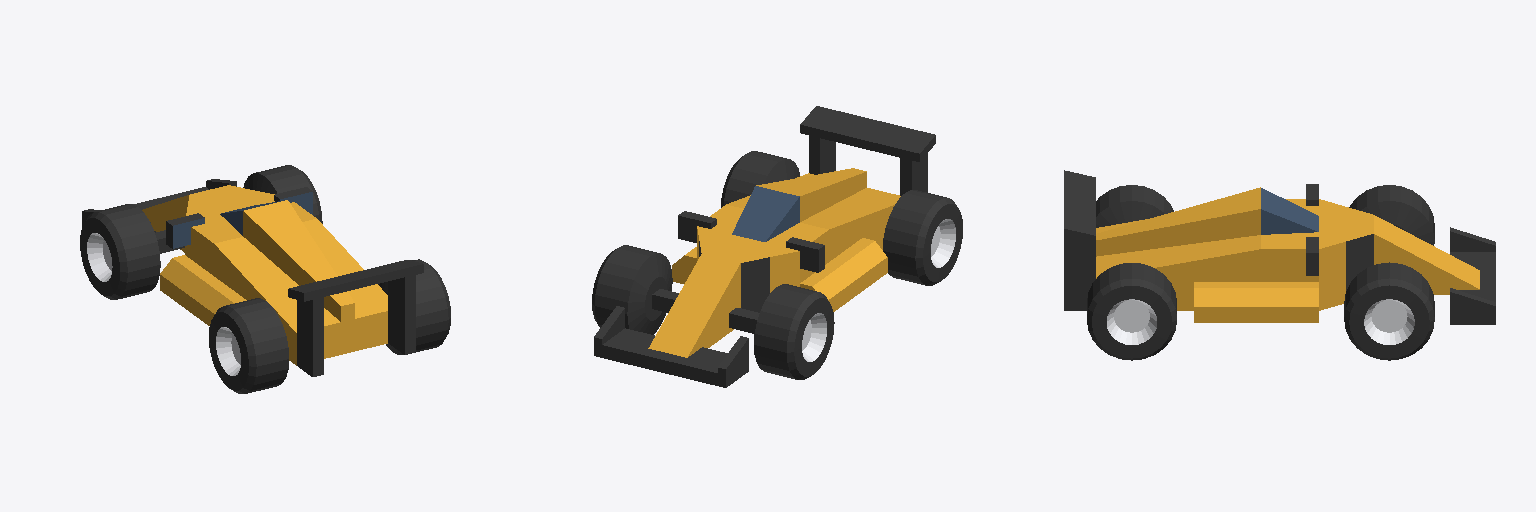
The model's file is raceCarOrange.obj.
3 views of the same model, side by side, from view 1: azimuth 30°, elevation 25°; view 2: azimuth 150°, elevation 25°; view 3: azimuth 270°, elevation 25° (orthographic).
Parts seen in each view (by area): view 1: body, wheelFrontLeft, wheelBackLeft, wheelBackRight, wheelFrontRight; view 2: body, wheelFrontLeft, wheelBackLeft, wheelFrontRight, wheelBackRight; view 3: body, wheelFrontRight, wheelBackRight, wheelFrontLeft, wheelBackLeft.
Part boxes in pixels (x1,y1,x2,y2): body: (82,179,423,376); wheelFrontLeft: (80,204,160,299); wheelBackLeft: (209,298,288,393); wheelBackRight: (378,259,450,354); wheelFrontRight: (243,165,322,223); body: (594,106,935,387); wheelFrontLeft: (754,284,834,379); wheelBackLeft: (883,190,962,285); wheelFrontRight: (592,245,672,334); wheelBackRight: (721,151,799,207); body: (1064,170,1495,324); wheelFrontRight: (1344,262,1434,360); wheelBackRight: (1087,263,1176,360); wheelFrontLeft: (1349,185,1434,245); wheelBackLeft: (1096,185,1173,227).
Size of the model in its own units: 0.7288 by 0.397 by 1.35.